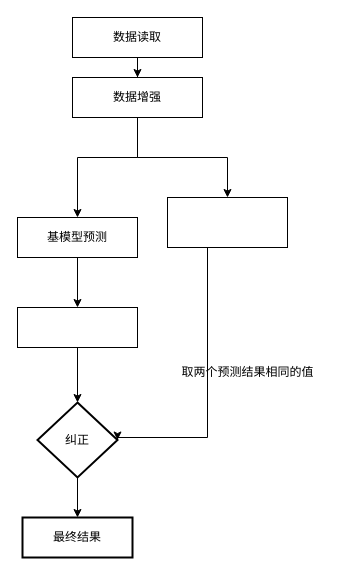
Image size: 345x576. Some labels were removed from this diagram. The shapes that lost their labels are listed below. From the top down, each one's box as (x1, y1, x2, y2) in pixels, then its label:
(166, 196, 288, 248): 2个纠错模型预测 （仅针对黑灰白）
(16, 306, 138, 348): 基结果
